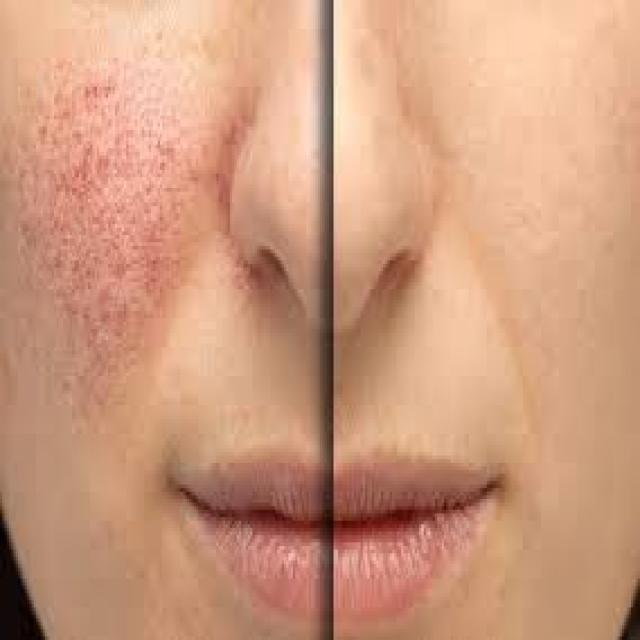Rosacea: (10, 74, 245, 404)
